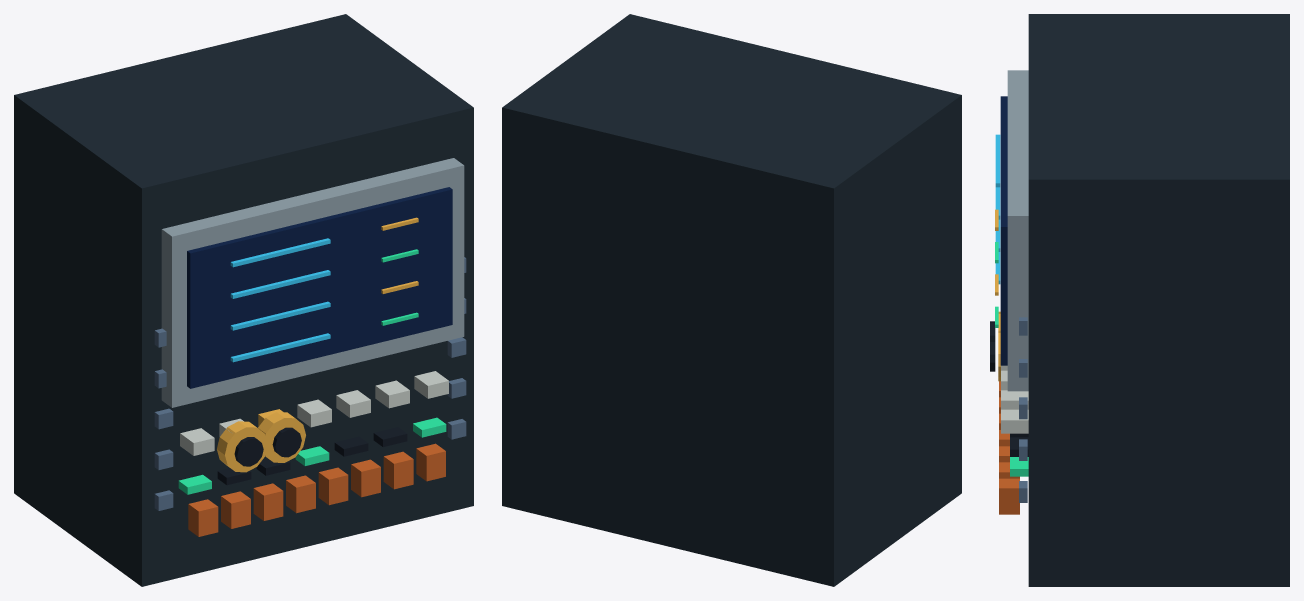
The model's file is 70_L84_Regulated5VControlSupply.fbx.
3 renders of one model, left to right at view 1: azimuth 30°, elevation 25°; view 2: azimuth 150°, elevation 25°; view 3: azimuth 270°, elevation 25°, orthographic. The views are drawn at different scales.
Parts seen in each view (by area): view 1: L84_Regulated5VControlSupply, L84_Regulated5VControlSupply_Part_0011, L84_Regulated5VControlSupply_Part_0013, L84_Regulated5VControlSupply_Part_0014, L84_Regulated5VControlSupply_Part_0012; view 2: L84_Regulated5VControlSupply; view 3: L84_Regulated5VControlSupply.
Boxes of the visible parts, box(x1,y1,x2,y2) form: L84_Regulated5VControlSupply: box(14, 14, 473, 586); L84_Regulated5VControlSupply_Part_0011: box(217, 421, 267, 472); L84_Regulated5VControlSupply_Part_0013: box(258, 412, 305, 462); L84_Regulated5VControlSupply_Part_0014: box(272, 427, 301, 457); L84_Regulated5VControlSupply_Part_0012: box(234, 437, 263, 466); L84_Regulated5VControlSupply: box(502, 14, 961, 586); L84_Regulated5VControlSupply: box(995, 14, 1289, 586).
Size of the model in its own units: 99.96 by 115 by 76.52.
